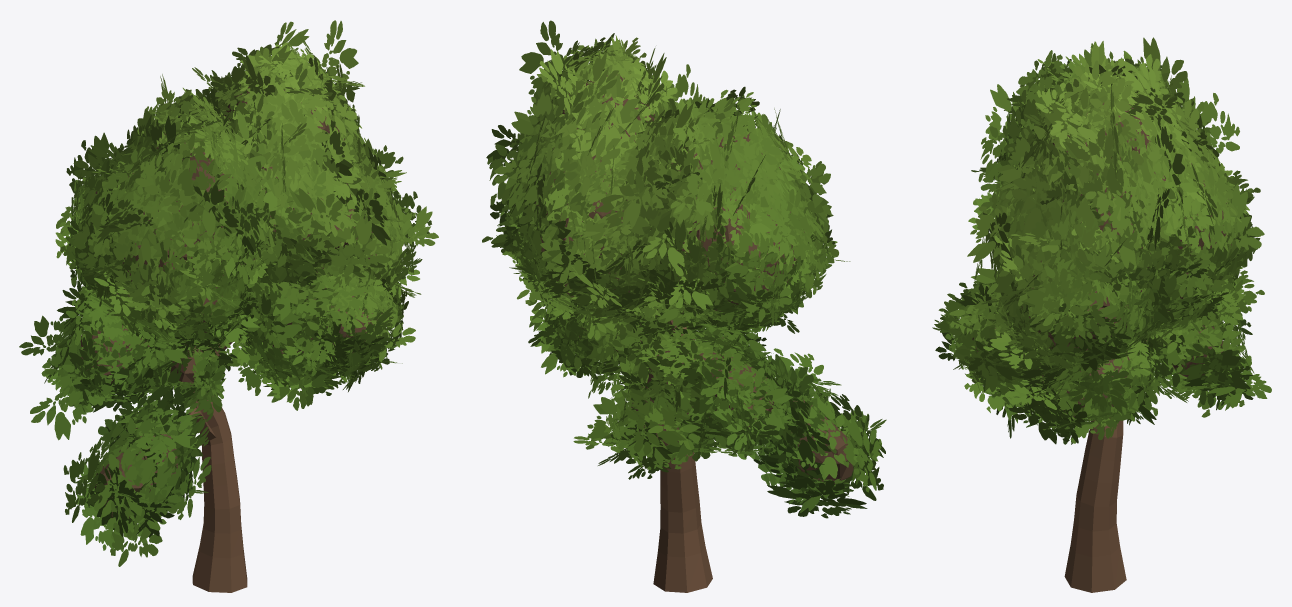
The model's file is tree1-woodland.glb.
The picture shows the model from 3 angles, left to right: view 1: azimuth 30°, elevation 25°; view 2: azimuth 150°, elevation 25°; view 3: azimuth 270°, elevation 25°; orthographic projection. The views are drawn at different scales.
Parts seen in each view (by area): view 1: Tree1 · ausgeschnittene Blätter, Tree1 · Stamm, Tree1 · Äste; view 2: Tree1 · ausgeschnittene Blätter, Tree1 · Stamm, Tree1 · Äste; view 3: Tree1 · ausgeschnittene Blätter, Tree1 · Stamm, Tree1 · Äste.
Boxes of the visible parts, x1,y1,x2,y2 form: Tree1 · ausgeschnittene Blätter: (19, 20, 438, 566); Tree1 · Stamm: (182, 342, 247, 592); Tree1 · Äste: (80, 78, 387, 517); Tree1 · ausgeschnittene Blätter: (482, 20, 886, 518); Tree1 · Stamm: (653, 311, 712, 592); Tree1 · Äste: (535, 74, 853, 483); Tree1 · ausgeschnittene Blätter: (932, 37, 1271, 444); Tree1 · Stamm: (1064, 340, 1146, 592); Tree1 · Äste: (972, 102, 1231, 417).
Bounding box in the file's own units: 5.46 × 7.8 × 4.45.
3 materials, 1 textured.
